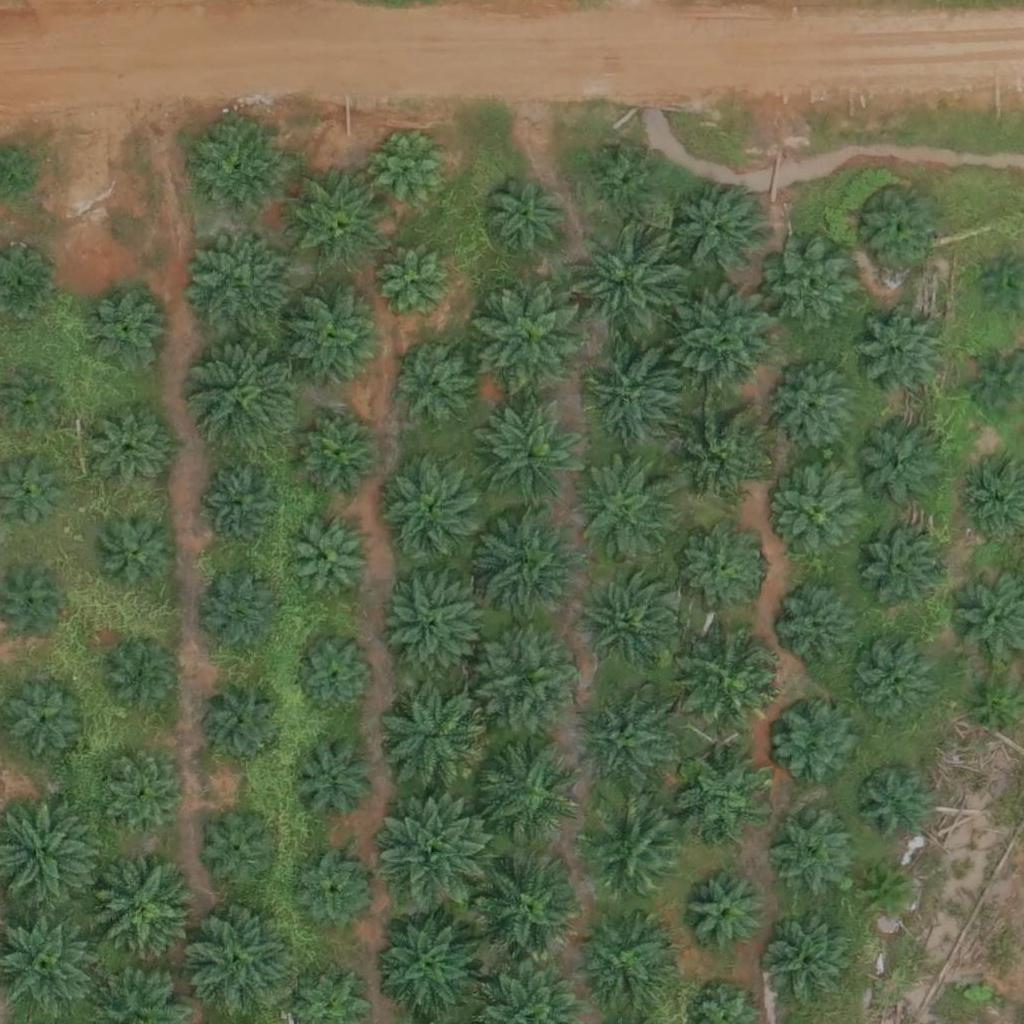Kelapa_Sawit: (573, 214, 698, 339), (188, 231, 301, 345), (194, 338, 307, 452), (375, 795, 488, 909), (475, 278, 588, 391), (480, 397, 593, 510), (474, 506, 587, 619), (374, 907, 487, 1020), (474, 624, 586, 738), (477, 853, 589, 967), (377, 682, 489, 796), (574, 793, 686, 906), (182, 903, 294, 1016), (83, 856, 195, 969), (189, 118, 289, 219), (287, 169, 387, 270), (588, 344, 688, 445), (578, 459, 678, 560), (578, 580, 678, 681), (676, 290, 776, 391), (668, 406, 768, 507), (682, 629, 782, 730), (755, 908, 855, 1009), (677, 750, 777, 851), (287, 289, 387, 389), (384, 456, 484, 556), (387, 570, 487, 670), (581, 691, 681, 791), (578, 913, 678, 1013), (477, 742, 577, 842), (4, 678, 92, 767), (774, 468, 862, 557), (677, 188, 765, 276), (678, 523, 766, 611), (774, 580, 862, 668), (773, 700, 861, 788), (771, 805, 859, 893), (100, 750, 188, 838), (484, 174, 571, 263), (372, 127, 459, 215), (289, 739, 376, 827), (295, 633, 382, 721), (204, 678, 291, 766), (768, 242, 855, 330), (770, 367, 857, 455), (858, 309, 945, 397), (856, 422, 943, 510), (856, 524, 943, 612), (850, 642, 937, 730), (681, 871, 768, 959), (293, 842, 380, 930), (93, 412, 168, 488), (863, 188, 938, 264), (88, 292, 163, 368), (208, 465, 283, 541), (206, 579, 281, 655), (300, 418, 375, 494), (295, 522, 370, 598), (402, 351, 477, 427), (377, 244, 452, 319), (99, 640, 174, 715), (101, 512, 176, 587), (859, 767, 934, 842), (201, 814, 276, 889), (597, 151, 659, 214), (970, 684, 1020, 735), (864, 865, 914, 916)
